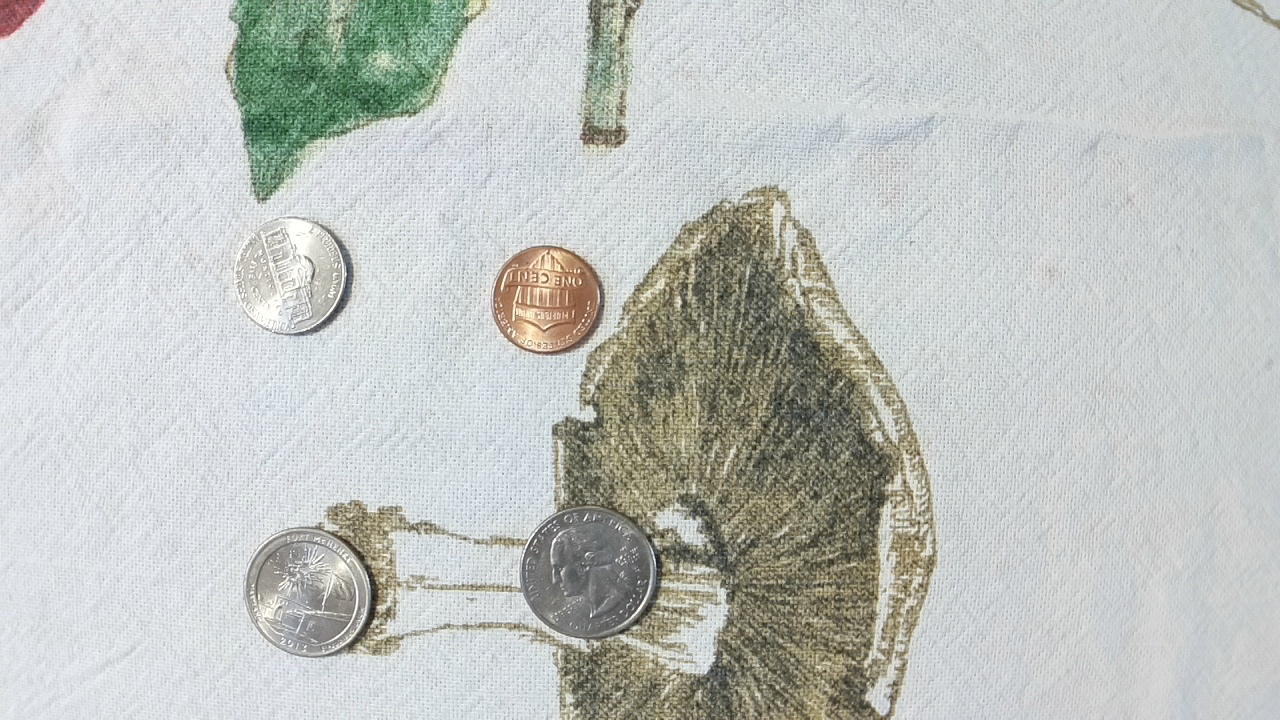nickel: (230, 212, 352, 338)
penny: (488, 240, 606, 356)
quarter: (520, 500, 658, 644), (242, 525, 376, 661)
